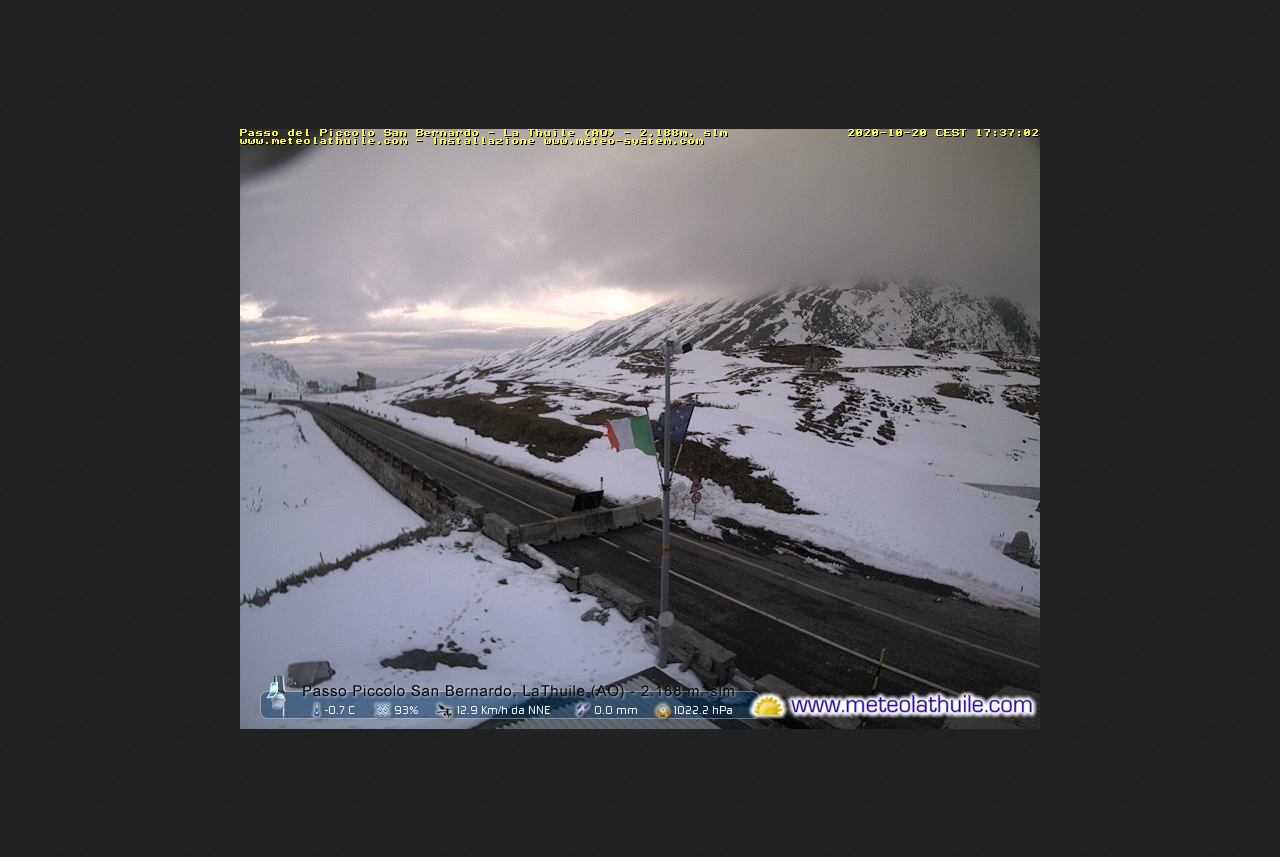yes: (643, 402, 696, 461), (597, 413, 657, 460)
